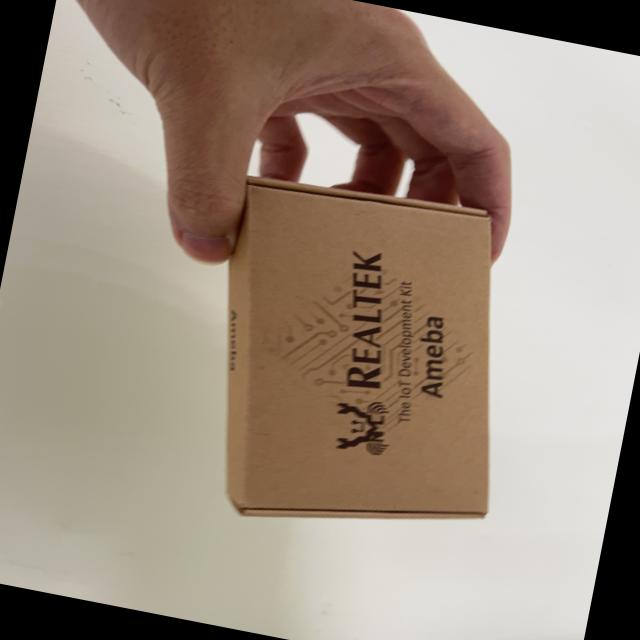box: (158, 160, 596, 582)
